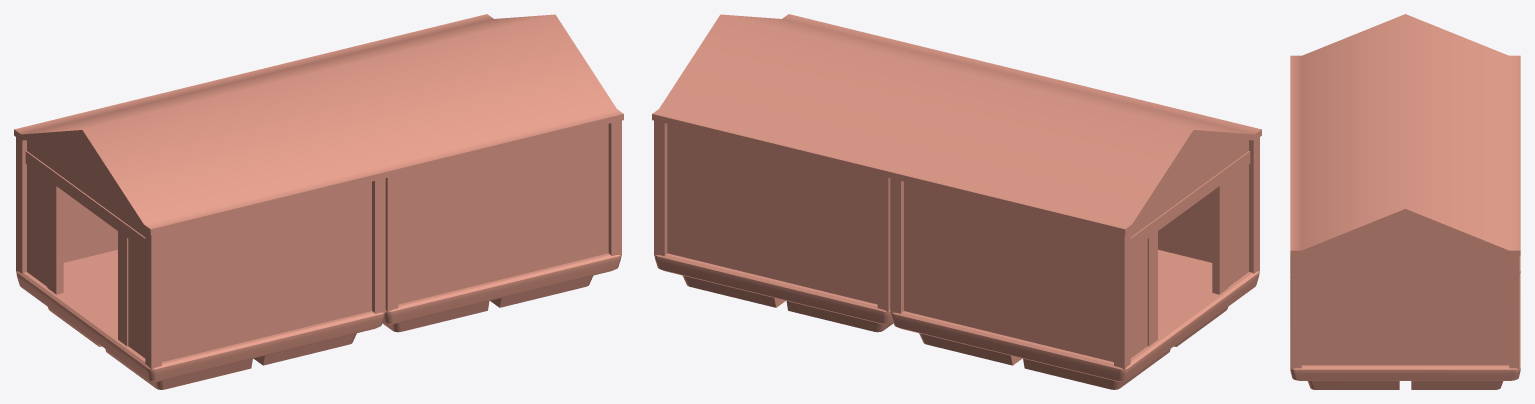
File: Steen_Huis_Placeholder.fbx
3 views of the same model, side by side, from view 1: azimuth 30°, elevation 25°; view 2: azimuth 150°, elevation 25°; view 3: azimuth 270°, elevation 25° (orthographic). The views are drawn at different scales.
Visible parts, largest first — view 1: St_Dak_01, St_Dak_02, St_Muur_01, St_Muur_04, St_Foundation_01, St_MuurDakDeur, St_Foundation_02, St_Muur_02; view 2: St_Dak_01, St_Dak_02, St_Muur_02, St_Muur_03, St_Foundation_01, St_MuurDakDeur, St_Foundation_02, St_Muur_01; view 3: St_MuurDak_01, St_Dak_02, St_Dak_01, St_Foundation_02, St_Muur_04, St_Muur_03.
Part boxes in pixels (x1=…): St_Dak_01: x1=14, y1=71, x2=387, y2=235; St_Dak_02: x1=251, y1=14, x2=623, y2=177; St_Muur_01: x1=145, y1=178, x2=385, y2=370; St_Muur_04: x1=385, y1=120, x2=621, y2=312; St_Foundation_01: x1=16, y1=249, x2=384, y2=389; St_MuurDakDeur: x1=25, y1=136, x2=145, y2=358; St_Foundation_02: x1=382, y1=253, x2=621, y2=332; St_Muur_02: x1=16, y1=137, x2=117, y2=273; St_Dak_01: x1=888, y1=71, x2=1261, y2=235; St_Dak_02: x1=652, y1=14, x2=1024, y2=177; St_Muur_02: x1=890, y1=178, x2=1130, y2=370; St_Muur_03: x1=654, y1=120, x2=890, y2=312; St_Foundation_01: x1=891, y1=249, x2=1259, y2=389; St_MuurDakDeur: x1=1130, y1=136, x2=1250, y2=358; St_Foundation_02: x1=654, y1=253, x2=893, y2=332; St_Muur_01: x1=1158, y1=137, x2=1259, y2=273; St_MuurDak_01: x1=1301, y1=214, x2=1509, y2=365; St_Dak_02: x1=1290, y1=111, x2=1520, y2=255; St_Dak_01: x1=1290, y1=14, x2=1520, y2=153; St_Foundation_02: x1=1290, y1=273, x2=1520, y2=389; St_Muur_04: x1=1291, y1=255, x2=1301, y2=369; St_Muur_03: x1=1509, y1=255, x2=1519, y2=369.
Size of the model in its own units: 4 by 1.81 by 2.
